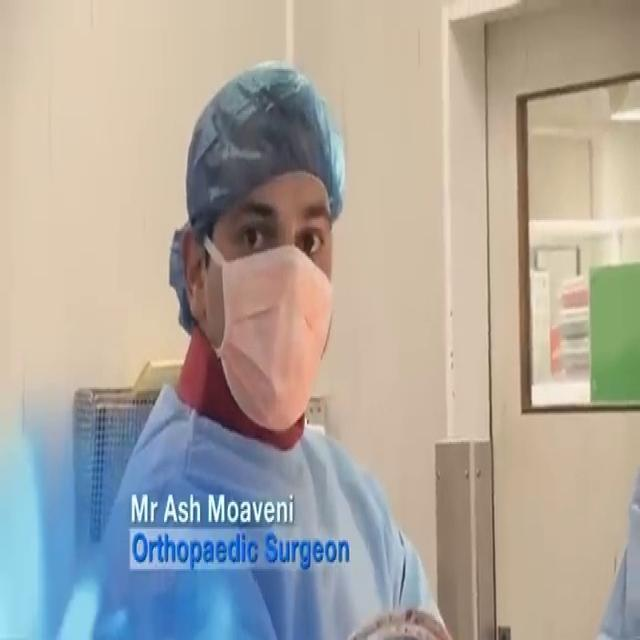doctor: (60, 58, 454, 638)
